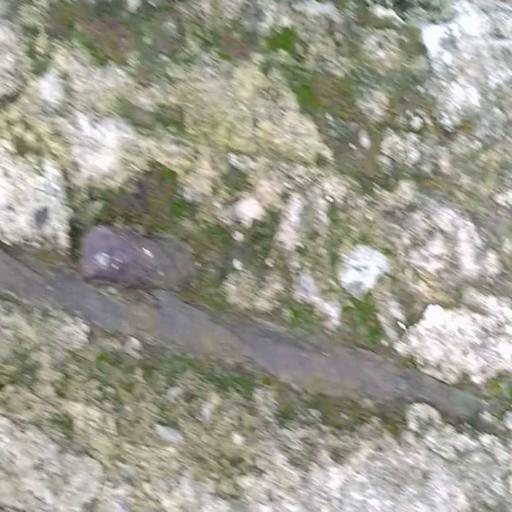spalling: (29, 156, 492, 441)
